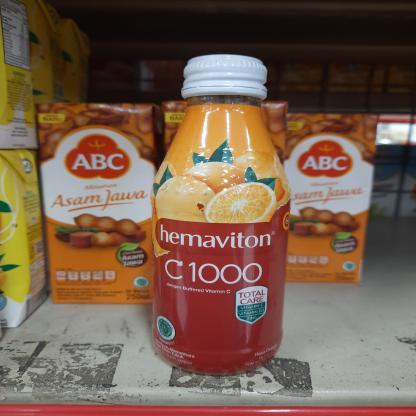bottle: (146, 49, 294, 375)
